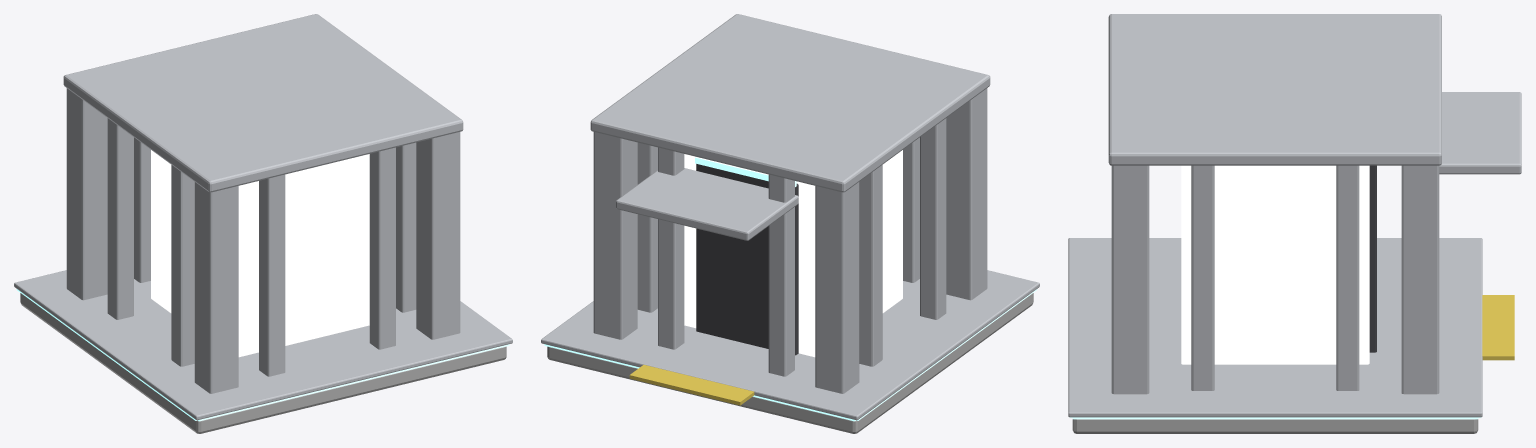
File: base_2x2_office.glb
3 views of the same model, side by side, from view 1: azimuth 30°, elevation 25°; view 2: azimuth 150°, elevation 25°; view 3: azimuth 270°, elevation 25° (orthographic). The views are drawn at different scales.
Parts seen in each view (by area): view 1: int_columns, ext_ledge, int_slab_edge, ext_lobby, int_slab, ext_base_glow; view 2: int_columns, ext_ledge, int_slab_edge, ext_entrance, ext_lobby, ext_canopy, int_slab, ext_hazard, ext_base_glow, ext_entrance_glow; view 3: ext_ledge, int_slab_edge, ext_lobby, int_columns, ext_canopy, int_slab, ext_hazard, ext_entrance, ext_base_glow.
Boxes of the visible parts, box(x1,y1,x2,y2) form: int_columns: box(66, 88, 460, 393); ext_ledge: box(63, 14, 463, 192); int_slab_edge: box(14, 270, 512, 420); ext_lobby: box(151, 150, 369, 357); int_slab: box(20, 293, 506, 433); ext_base_glow: box(16, 289, 509, 421); int_columns: box(593, 88, 987, 393); ext_ledge: box(590, 14, 990, 192); int_slab_edge: box(541, 270, 1039, 420); ext_entrance: box(696, 164, 798, 355); ext_lobby: box(684, 150, 902, 357); ext_canopy: box(616, 168, 798, 240); int_slab: box(547, 293, 1033, 433); ext_hazard: box(629, 365, 754, 405); ext_base_glow: box(544, 289, 1037, 421); ext_entrance_glow: box(695, 157, 796, 186); ext_ledge: box(1108, 14, 1441, 165); int_slab_edge: box(1068, 238, 1482, 417); ext_lobby: box(1181, 165, 1369, 364); int_columns: box(1111, 165, 1439, 394); ext_canopy: box(1439, 92, 1521, 174); int_slab: box(1072, 419, 1478, 433); ext_hazard: box(1482, 295, 1514, 360); ext_entrance: box(1369, 165, 1376, 352); ext_base_glow: box(1069, 417, 1481, 419).
Size of the model in its own units: 2.86 by 2.03 by 3.13.
